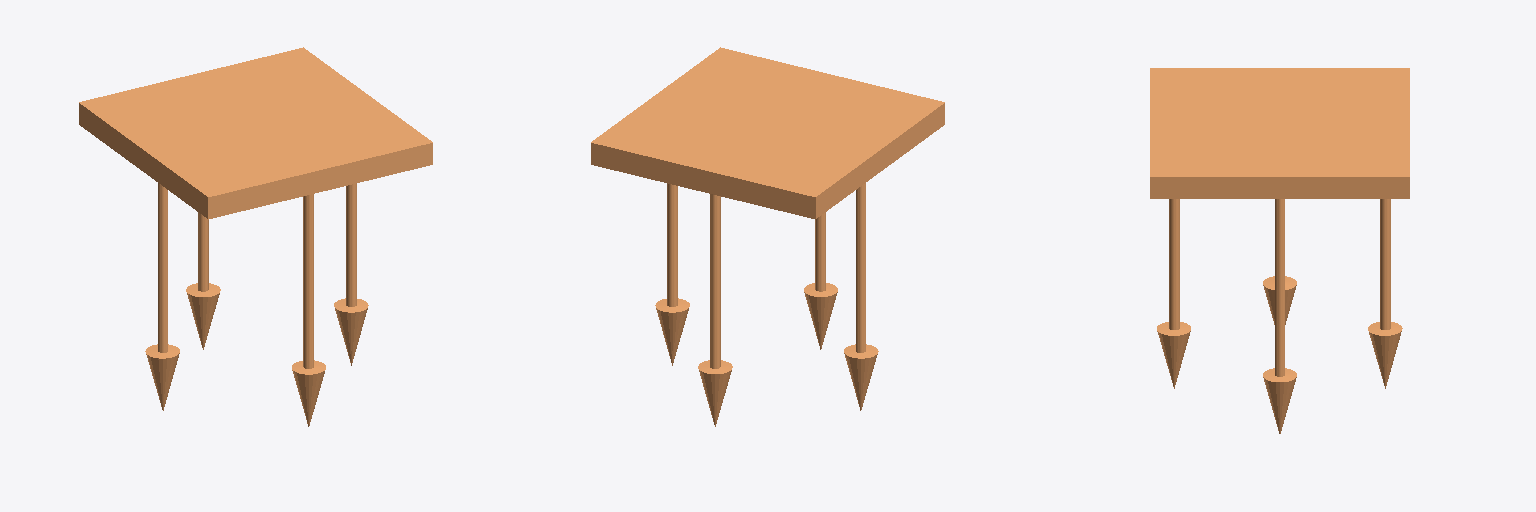
Rendered from DLight.obj.
The picture shows the model from 3 angles: view 1: azimuth 30°, elevation 25°; view 2: azimuth 150°, elevation 25°; view 3: azimuth 270°, elevation 25°; orthographic projection.
Parts seen in each view (by area): view 1: DLight.obj; view 2: DLight.obj; view 3: DLight.obj.
Part boxes in pixels (x1,y1,x2,y2): DLight.obj: (79,47,432,426); DLight.obj: (591,47,944,426); DLight.obj: (1150,68,1409,433).
Size of the model in its own units: 1.6 by 1.81 by 1.6.